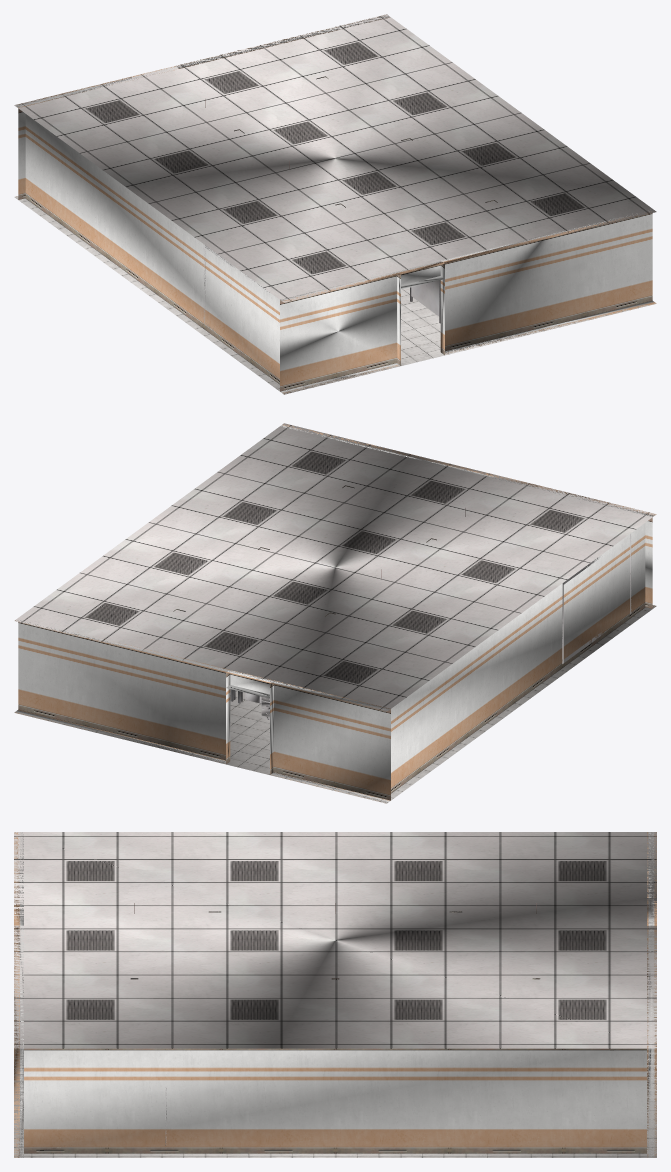
Rendered from room2offices_opt.obj.
3 renders of one model, top to bottom at view 1: azimuth 30°, elevation 25°; view 2: azimuth 150°, elevation 25°; view 3: azimuth 270°, elevation 25°, orthographic. The views are drawn at different scales.
Bounding box in the file's own units: 81.6 × 21.12 × 102.
16 materials, 16 textured.
